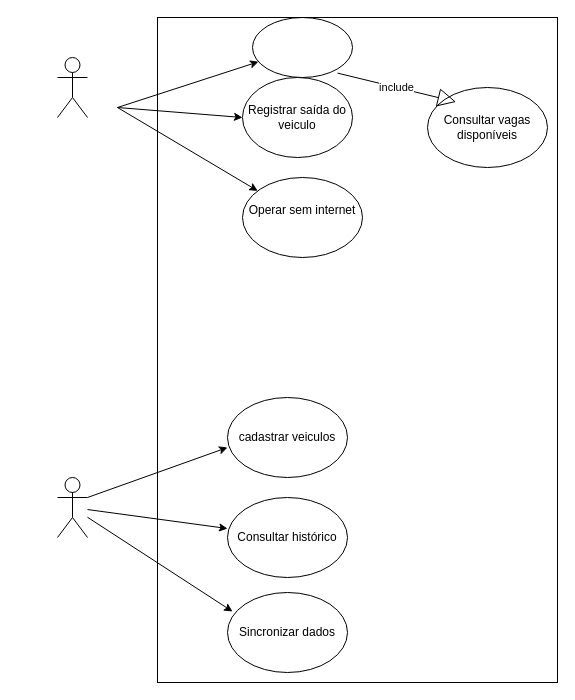
This 575x700 diagram has some shape labels left out. The centre of each missing label's shape, as x and y in pixels:
"administrador" goes at (x=72, y=507).
"Operador da Guarita" goes at (x=72, y=87).
"registrar entrada do veículo" goes at (x=302, y=47).
